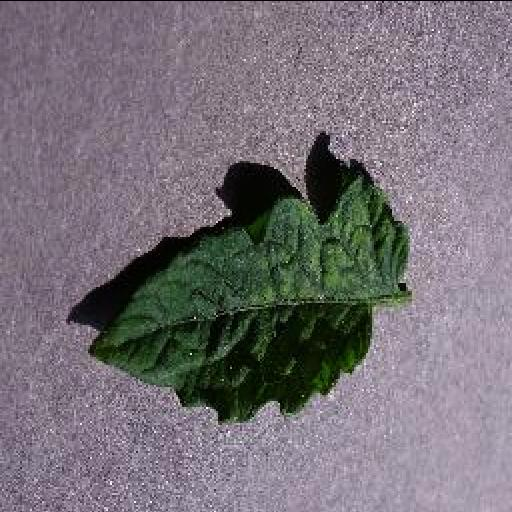Mosaic Virus: (86, 168, 414, 426)
